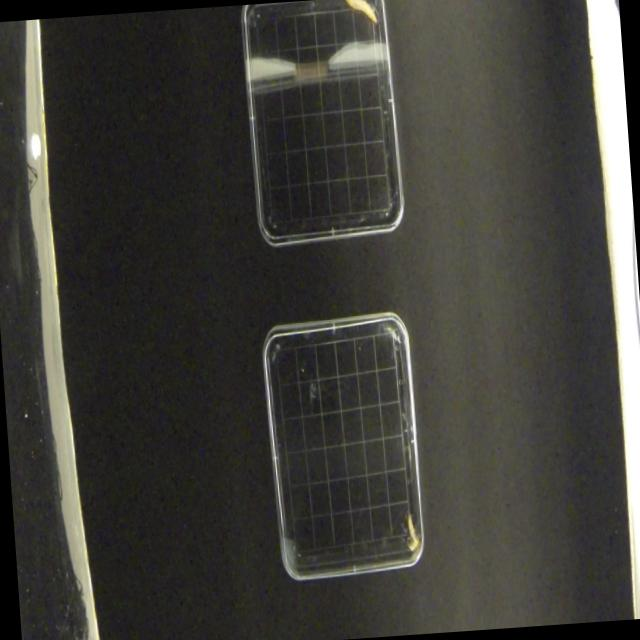larva: (344, 0, 379, 25), (404, 514, 420, 552)
